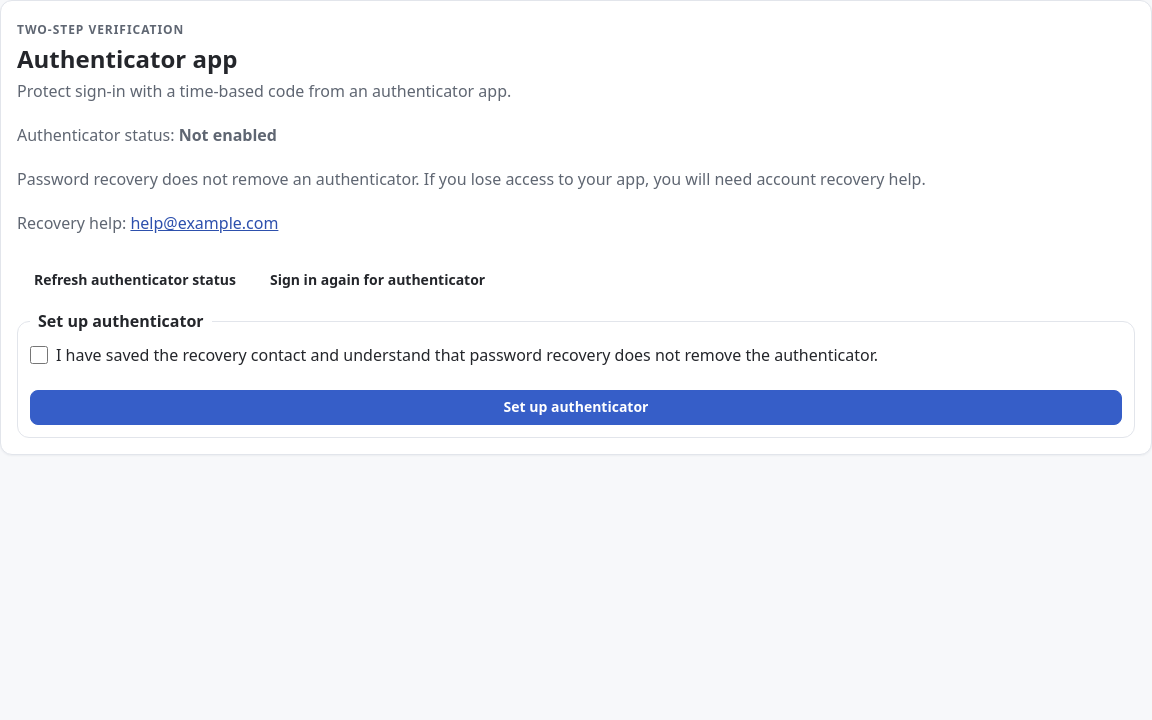
Scenario: account authenticator controls › clears key and never retries after unknown outcome
The width and height of the screenshot is (1152, 720).
Expected: the button "Set up authenticator" is enabled, 30,390 -> 1122,425
Click the checkbox labelled "saved the recovery contact" at (39, 355), box 30,346 -> 48,364
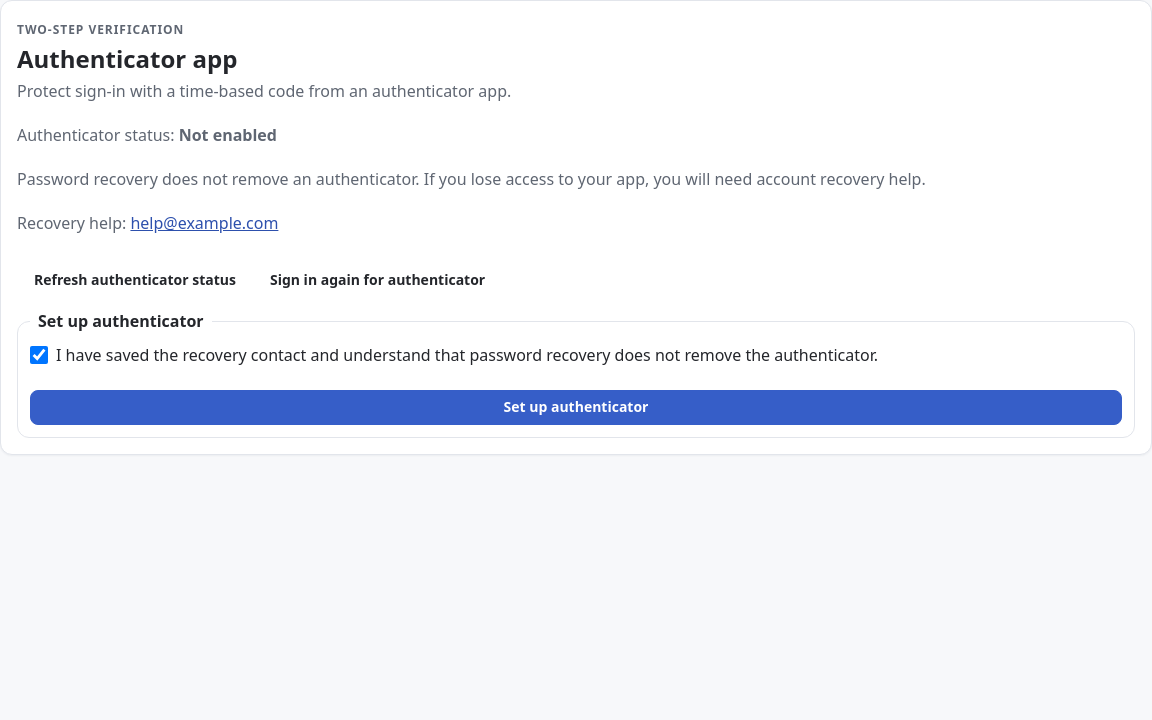
Click the button "Set up authenticator" at (576, 408), box 30,390 -> 1122,425
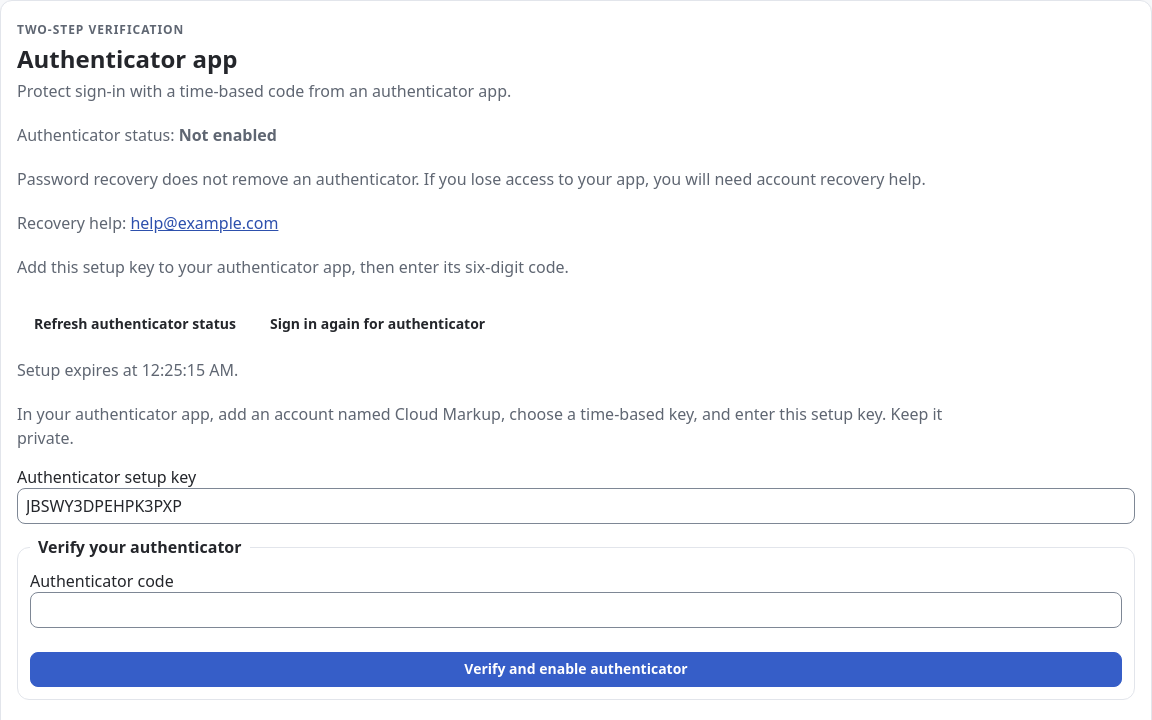
Result: the field labelled "Authenticator setup key" is shown at 17,488 -> 1135,524
Type "123456" into the field labelled "Authenticator code" at (576, 610), box 30,592 -> 1122,628
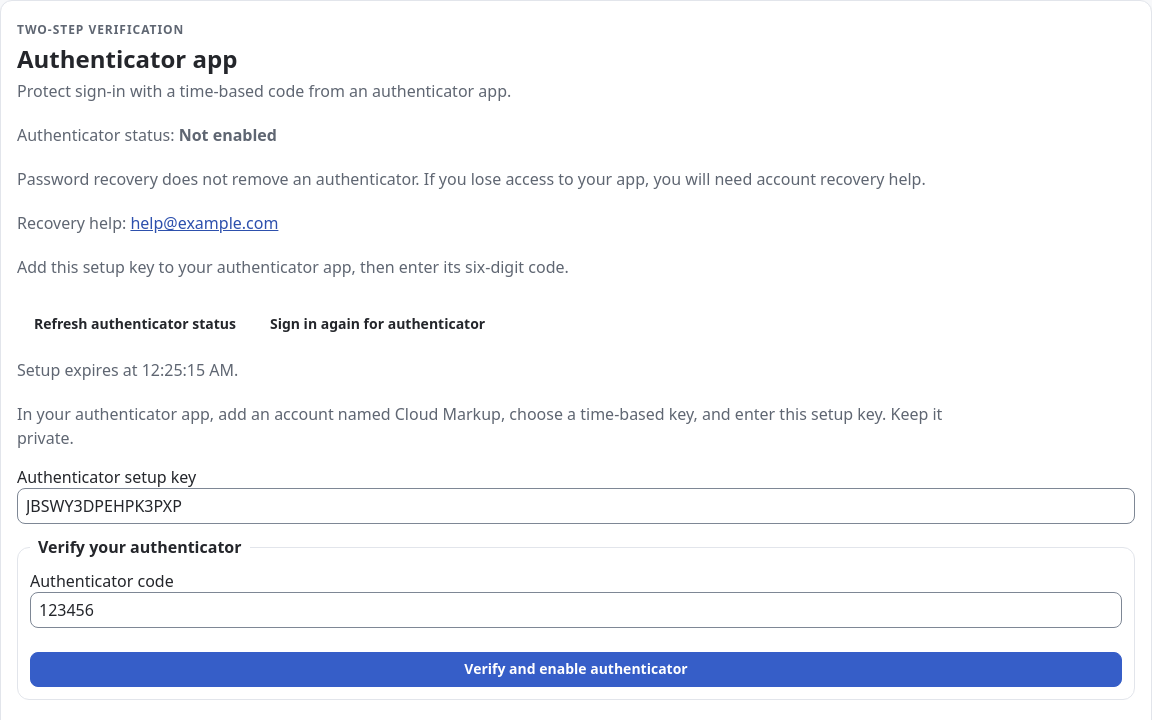
Click the button "Verify and enable authenticator" at (576, 670), box 30,652 -> 1122,687
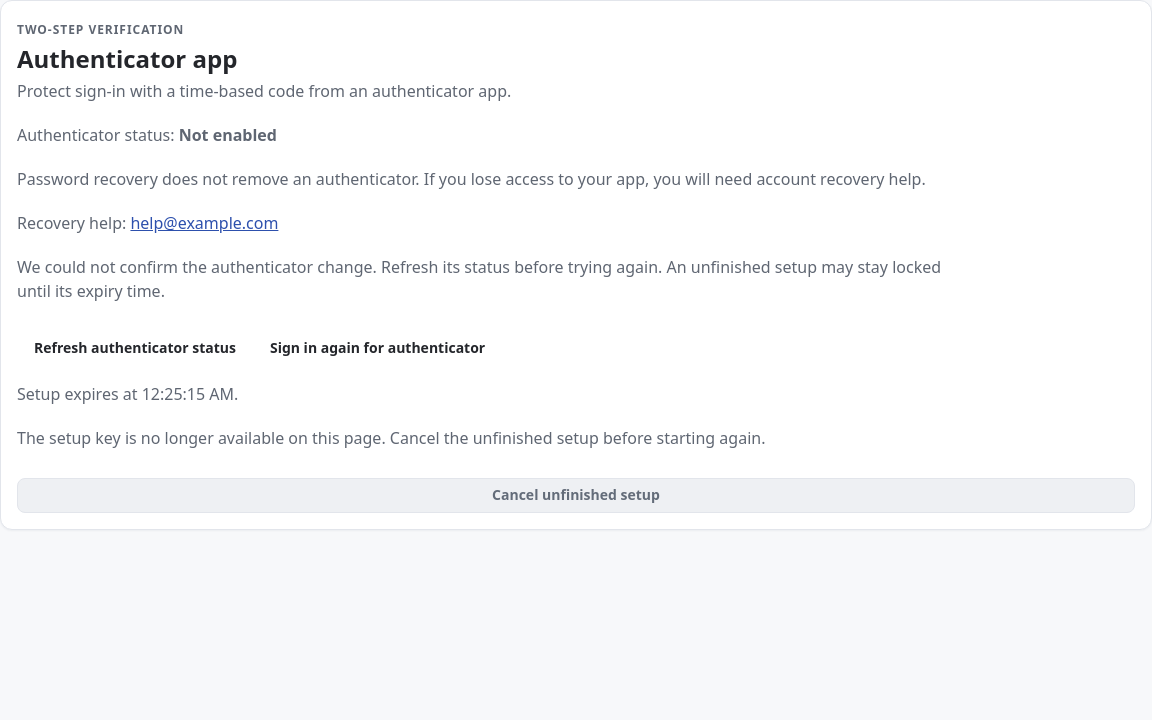
Result: the text "We could not confirm" is shown at 17,256 -> 941,302
Result: the label labelled "Authenticator setup key" is gone
Result: the button "Cancel unfinished setup" is disabled at 17,478 -> 1135,513
